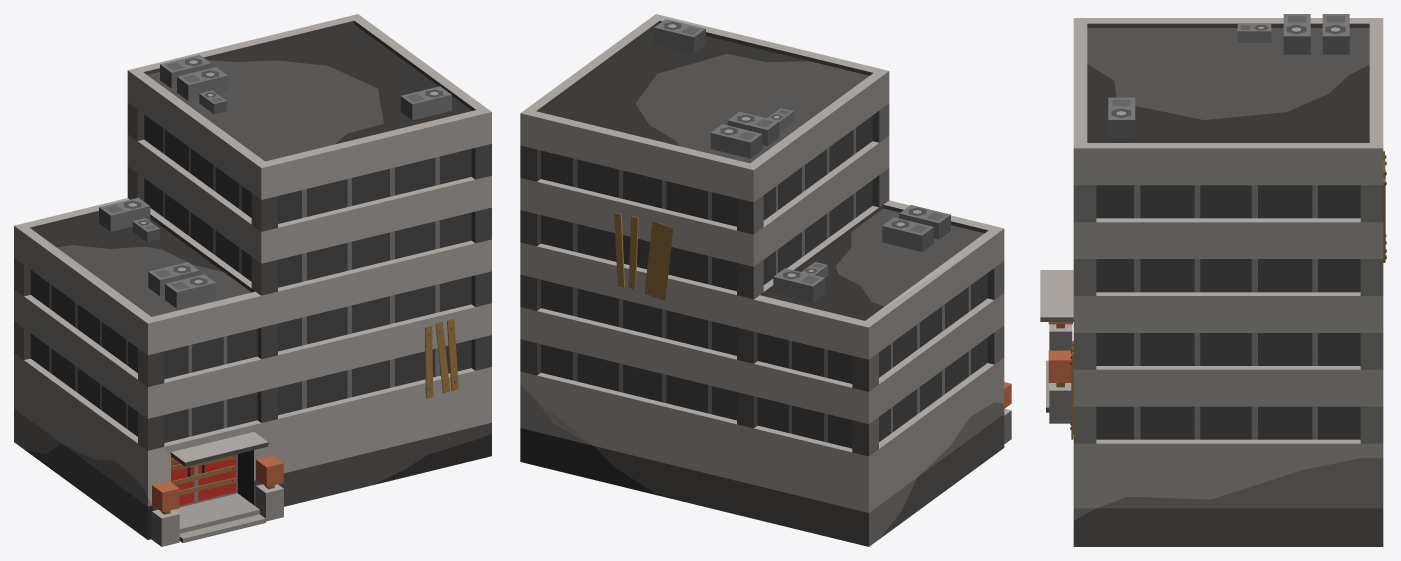
The model's file is SA_Bld_OfficeGrey_04.glb.
3 renders of one model, left to right at view 1: azimuth 30°, elevation 25°; view 2: azimuth 150°, elevation 25°; view 3: azimuth 270°, elevation 25°, orthographic. The views are drawn at different scales.
Visible parts, largest first — view 1: SA_Bld_OfficeGrey_04; view 2: SA_Bld_OfficeGrey_04; view 3: SA_Bld_OfficeGrey_04.
Part boxes in pixels (x1,y1,x2,y2): SA_Bld_OfficeGrey_04: (14, 14, 491, 546); SA_Bld_OfficeGrey_04: (520, 14, 1011, 546); SA_Bld_OfficeGrey_04: (1040, 14, 1386, 546).
Bounding box in the file's own units: 8.54 × 8.46 × 6.43.
1 material, 1 textured.
